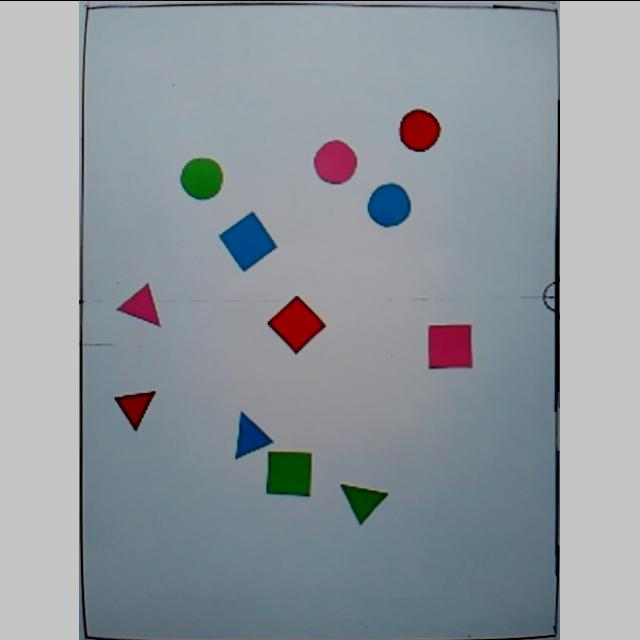blueCircle: (367, 182, 415, 228)
blueSquare: (218, 210, 280, 272)
blueTriangle: (232, 410, 276, 460)
greenCircle: (182, 154, 226, 202)
greenSquare: (268, 449, 316, 498)
greenTriangle: (338, 480, 392, 526)
pinkCircle: (314, 138, 360, 186)
pinkSquare: (427, 322, 478, 371)
pinkTriangle: (116, 282, 168, 328)
redCircle: (397, 106, 445, 154)
redSquare: (266, 292, 330, 356)
redTriangle: (114, 383, 160, 431)
